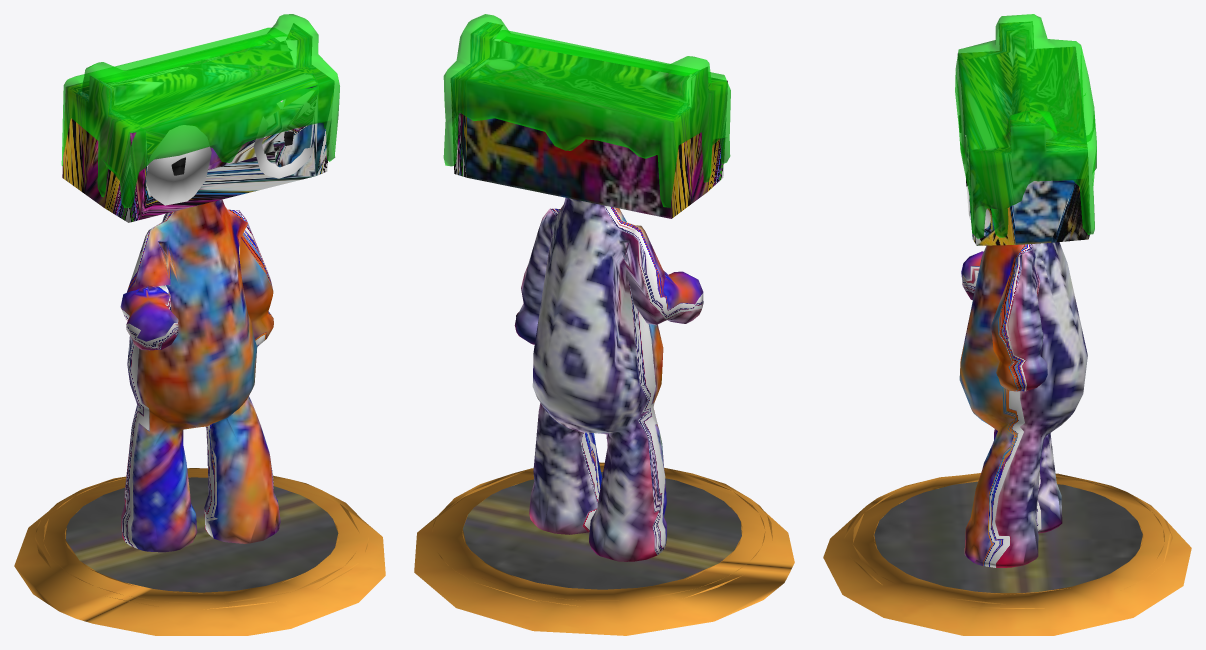
3 views of the same model, side by side, from view 1: azimuth 30°, elevation 25°; view 2: azimuth 150°, elevation 25°; view 3: azimuth 270°, elevation 25° (orthographic). The views are drawn at different scales.
Size of the model in its own units: 1.42 by 2.16 by 1.44.
7 materials, 4 textured.
